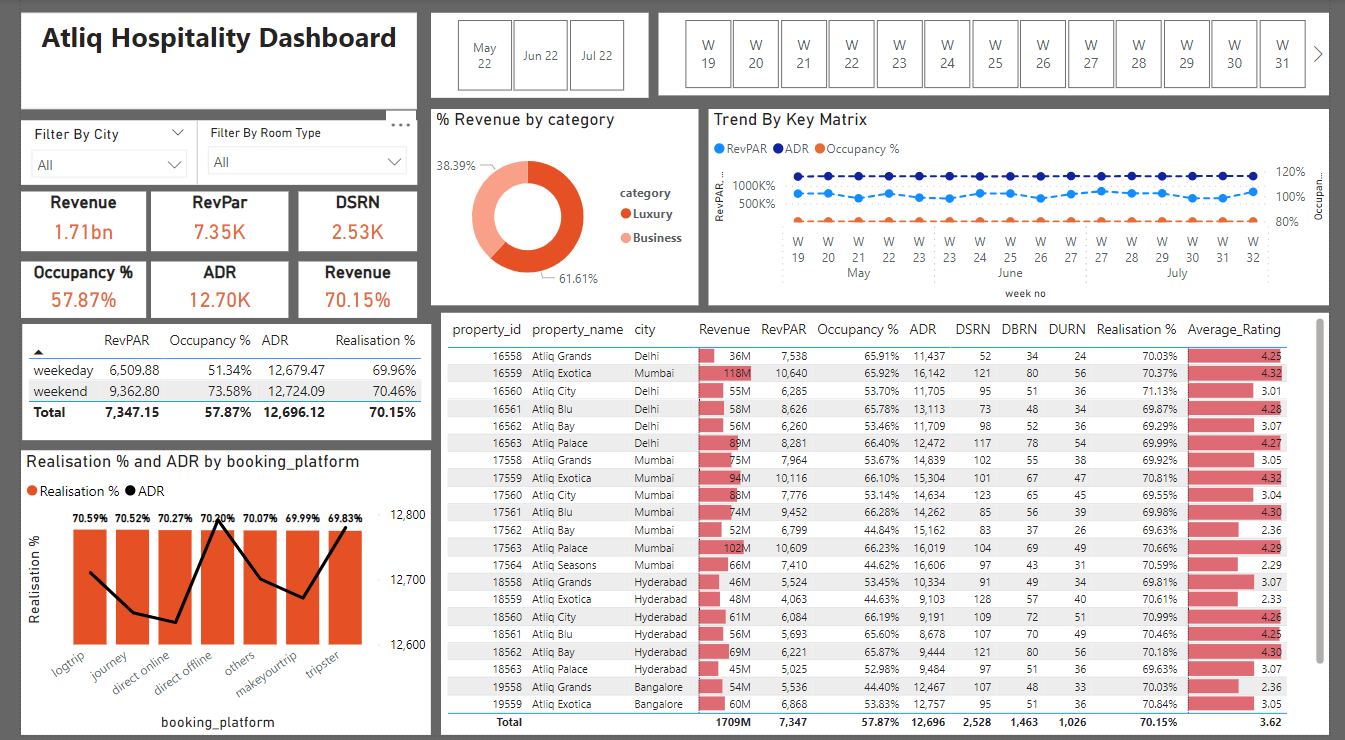

The dashboard page shown, as its layout file describes it:
{"tool":"powerbi","page":{"name":"Page 1","canvas":[1280,720],"ordinal":0},"visuals":[{"type":"tableEx","fields":{"Values":["dim_hotes.property_id","dim_hotes.property_name","dim_hotes.city","Key_Measure.Revenue","Key_Measure.RevPAR","Key_Measure.Occupancy %","Key_Measure.ADR","Key_Measure.DSRN","Key_Measure.DBRN","Key_Measure.DURN","Key_Measure.Realisation %","Key_Measure.Average_Rating"]},"box":[410.7,306.8,869.1,413.2],"z":0},{"type":"slicer","fields":{"Values":["dim_hotes.city"]},"box":[0,118.8,172.4,63.6],"z":1000},{"type":"slicer","fields":{"Values":["dim_rooms.room_class"]},"box":[172.4,118.8,215.1,63.6],"z":2000},{"type":"slicer","fields":{"Values":["dim_date.mmm yy"]},"box":[401,13.4,212.7,83.1],"z":3000},{"type":"slicer","fields":{"Values":["dim_date.week no"]},"box":[623.4,13.4,656.4,80.7],"z":4000},{"type":"card","title":"Revenue","fields":{"Values":["Key_Measure.Revenue"]},"box":[0,188.5,122.2,58.7],"z":5000},{"type":"lineChart","title":"Trend By Key Matrix","fields":{"Category":["dim_date.mmm yy.Variation.Date Hierarchy.Month","dim_date.week no"],"Y":["Key_Measure.RevPAR","Key_Measure.ADR","Key_Measure.Occupancy %"],"Y2":["Key_Measure.Occupancy %"]},"box":[672.3,107.6,607.5,191.9],"z":6000},{"type":"donutChart","title":"% Revenue by category","fields":{"Y":["Key_Measure.Revenue"],"Category":["dim_hotes.category"]},"box":[401,107.6,261.6,191.9],"z":7000},{"type":"lineStackedColumnComboChart","fields":{"Category":["fact_bookings.booking_platform"],"Y":["Key_Measure.Realisation %"],"Y2":["Key_Measure.ADR"]},"box":[0,441.3,401,278.7],"z":8000},{"type":"tableEx","fields":{"Values":["dim_date.day_type","Key_Measure.RevPAR","Key_Measure.Occupancy %","Key_Measure.ADR","Key_Measure.Realisation %"]},"box":[1.2,317.8,399.7,113.7],"z":9000},{"type":"card","title":"RevPar","fields":{"Values":["Key_Measure.RevPAR"]},"box":[127.1,188.3,134.5,58.7],"z":10000},{"type":"card","title":"Occupancy %","fields":{"Values":["Key_Measure.Occupancy %"]},"box":[0,256.9,122.2,55],"z":11000},{"type":"card","title":"ADR","fields":{"Values":["Key_Measure.ADR"]},"box":[127.1,256.7,134.5,55],"z":12000},{"type":"card","title":"Revenue","fields":{"Values":["Key_Measure.Realisation %"]},"box":[271.4,256.7,116.1,55],"z":13000},{"type":"card","title":"DSRN","fields":{"Values":["Key_Measure.DSRN"]},"box":[271.4,188.3,116.1,58.7],"z":14000},{"type":"textbox","box":[0,13.4,387.5,94.1],"z":15000}]}

Visuals, with their boxes in screenshot pixels (x1, y1, x2, y2), scaled from the page's 1280x720 canvas onto the 1345x740 screenshot:
tableEx - dim_hotes.property_id x dim_hotes.property_name: 432,315,1344,739
slicer - dim_hotes.city: 0,122,181,187
slicer - dim_rooms.room_class: 181,122,407,187
slicer - dim_date.mmm yy: 421,14,645,99
slicer - dim_date.week no: 655,14,1344,97
"Revenue" card: 0,194,128,254
"Trend By Key Matrix" lineChart: 706,111,1344,308
"% Revenue by category" donutChart: 421,111,696,308
lineStackedColumnComboChart - fact_bookings.booking_platform x Key_Measure.Realisation %: 0,454,421,739
tableEx - dim_date.day_type x Key_Measure.RevPAR: 1,327,421,443
"RevPar" card: 134,194,275,254
"Occupancy %" card: 0,264,128,321
"ADR" card: 134,264,275,320
"Revenue" card: 285,264,407,320
"DSRN" card: 285,194,407,254
textbox: 0,14,407,110
